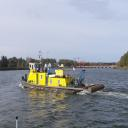tugboat: (21, 47, 107, 99)
